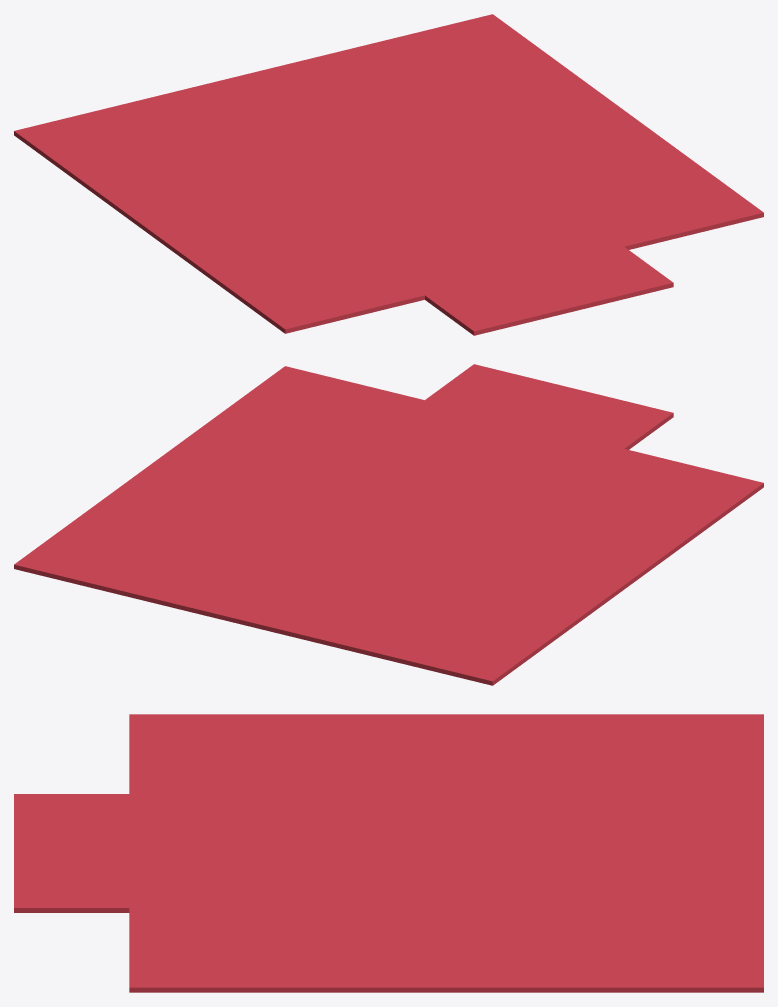
Rendered from K1_RedGlassFloor.fbx.
The picture shows the model from 3 angles, top to bottom: view 1: azimuth 30°, elevation 25°; view 2: azimuth 150°, elevation 25°; view 3: azimuth 270°, elevation 25°; orthographic projection. The views are drawn at different scales.
Parts seen in each view (by area): view 1: Red_Glass_Floor; view 2: Red_Glass_Floor; view 3: Red_Glass_Floor.
Boxes of the visible parts, box(x1,y1,x2,y2) form: Red_Glass_Floor: box(14, 14, 763, 335); Red_Glass_Floor: box(14, 364, 763, 685); Red_Glass_Floor: box(14, 714, 763, 992).
Size of the model in its own units: 1131 by 10 by 1311.
